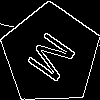M: (25, 29, 85, 90)
